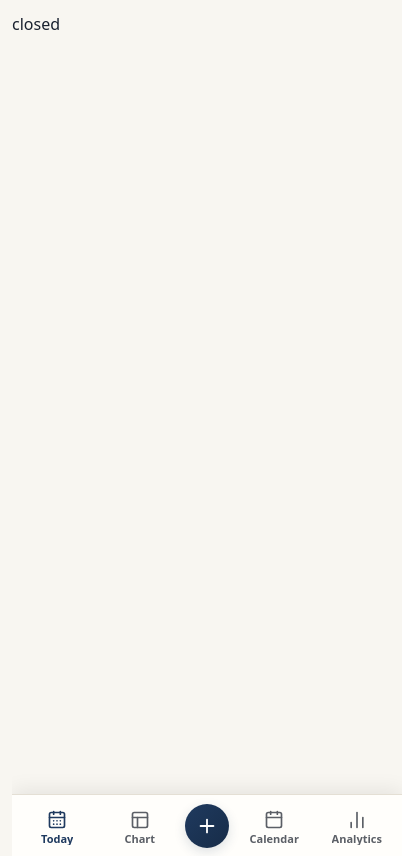
Scenario: MobileNav Component (Phone Navigation) › opens the observation drawer from the add button
This screenshot has width=402, height=856.
Click the button named "Log" at (207, 826), box [185,804,229,848]
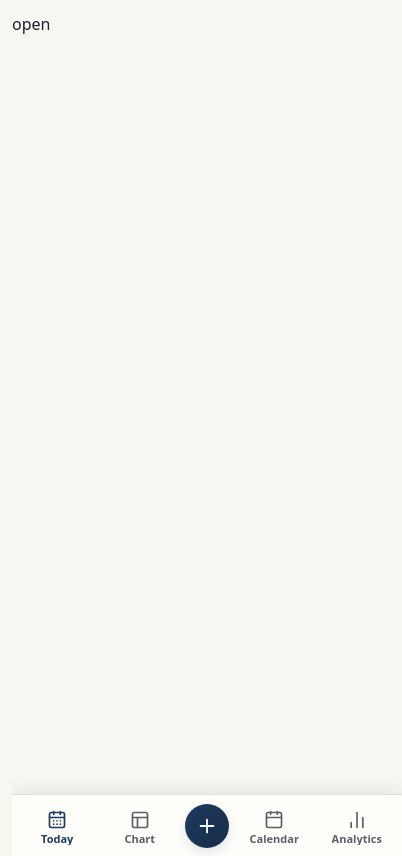
Check: the text with test id "drawer" reads "open", box [12,13,50,35]
